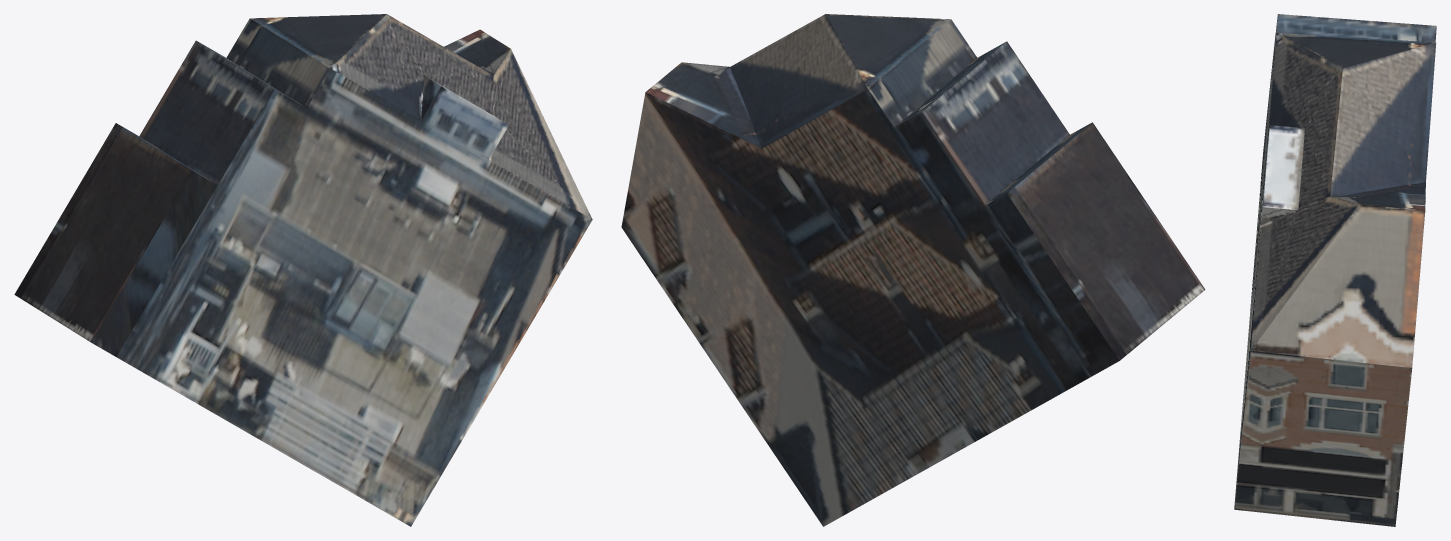
3 views of the same model, side by side, from view 1: azimuth 30°, elevation 25°; view 2: azimuth 150°, elevation 25°; view 3: azimuth 270°, elevation 25° (orthographic). The views are drawn at different scales.
Parts seen in each view (by area): view 1: BAG_0599100000671718 (×5); view 2: BAG_0599100000671718 (×5); view 3: BAG_0599100000671718 (×5).
Boxes of the visible parts, <box> form: BAG_0599100000671718 (×5): <box>14,14,592,526</box>; BAG_0599100000671718 (×5): <box>621,14,1205,526</box>; BAG_0599100000671718 (×5): <box>1234,14,1436,526</box>.
Size of the model in its own units: 18.32 by 16.76 by 6.55.
Materials: 1 (1 with a texture image).
